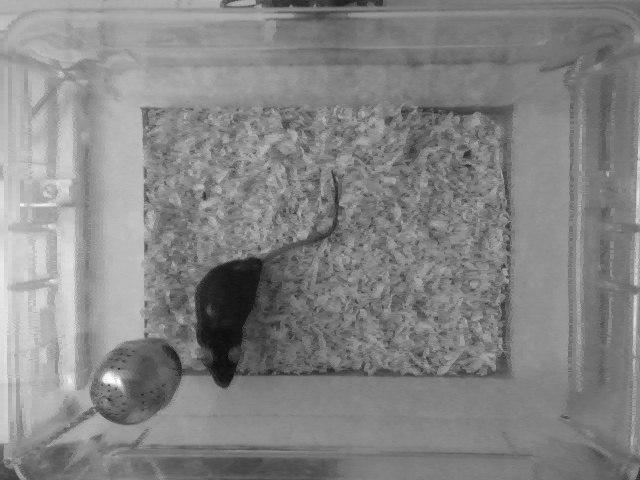mice: (192, 167, 341, 391)
